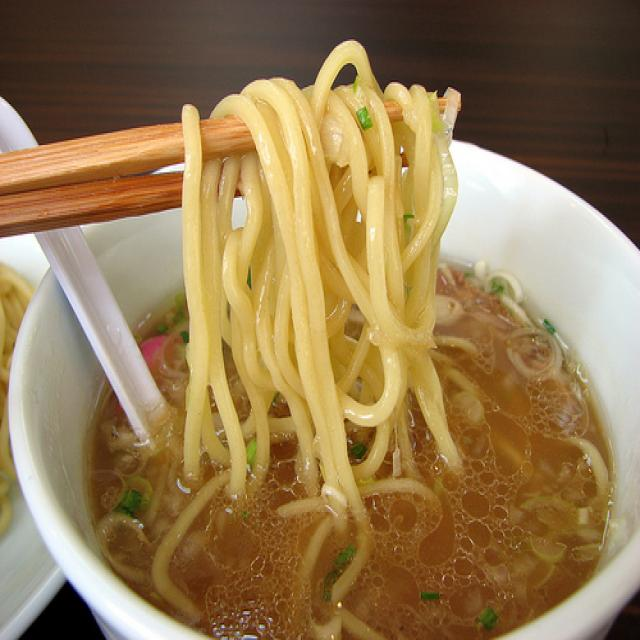面条主食: (13, 39, 635, 616)
